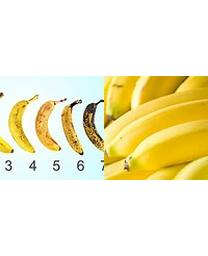banana: (104, 77, 207, 179), (9, 93, 37, 154), (36, 99, 63, 151), (61, 100, 85, 156), (82, 99, 104, 151)
